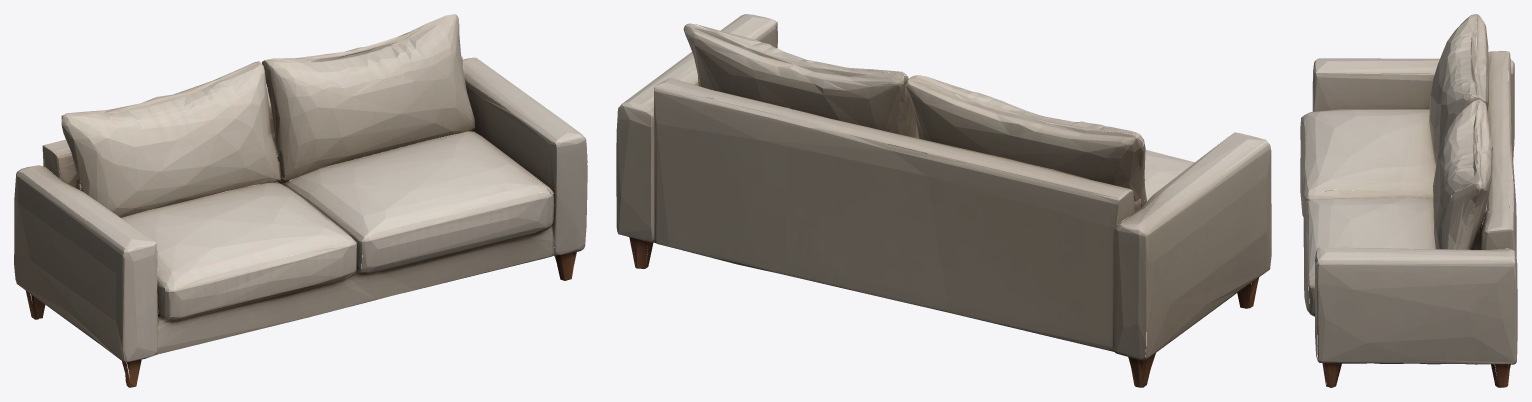
File: couch.glb
The picture shows the model from 3 angles, left to right: view 1: azimuth 30°, elevation 25°; view 2: azimuth 150°, elevation 25°; view 3: azimuth 270°, elevation 25°; orthographic projection. The views are drawn at different scales.
Visible parts, largest first — view 1: geometry_0; view 2: geometry_0; view 3: geometry_0.
Part boxes in pixels (x1,y1,x2,y2): geometry_0: [14, 14, 587, 387]; geometry_0: [616, 14, 1271, 387]; geometry_0: [1300, 14, 1517, 387].
Bounding box in the file's own units: 0.9987 × 0.4301 × 0.4436.
1 material, 1 textured.
